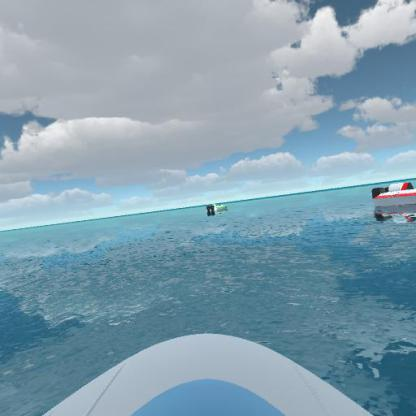usv0: (201, 200, 228, 216)
usv3: (365, 179, 415, 224)
